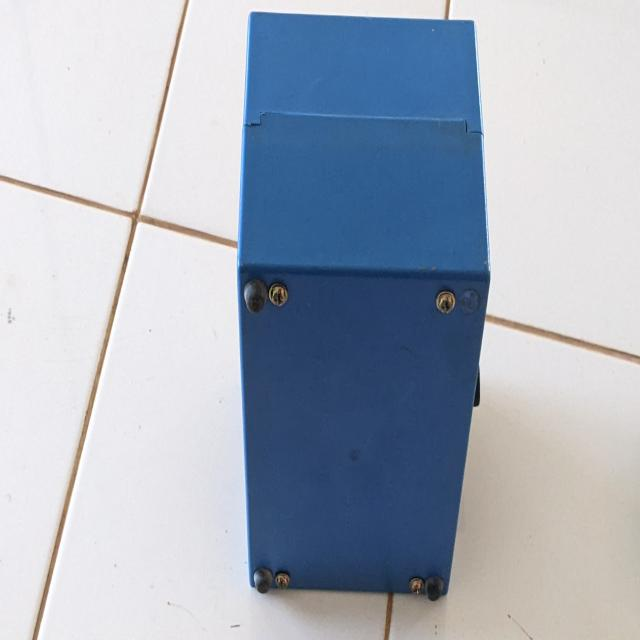Low Voltage AC-DC Power Supply 12 V: (220, 3, 501, 640)
